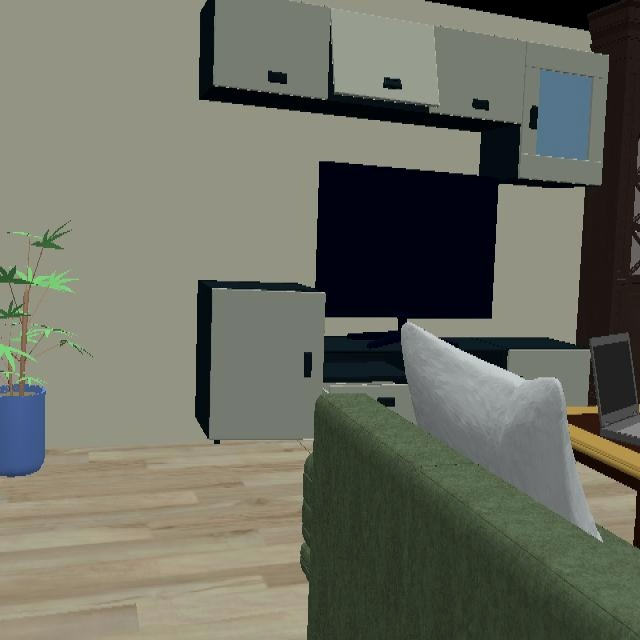bookshelf: (575, 0, 640, 397)
cabinet: (210, 0, 609, 185), (196, 283, 416, 443), (447, 337, 593, 408)
laptop: (590, 335, 640, 455)
monitor: (314, 160, 500, 335)
pillow: (399, 323, 602, 537)
sofa: (299, 393, 640, 640)
table: (567, 405, 640, 549)
